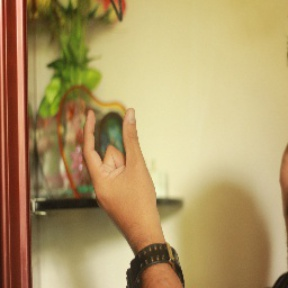U: (77, 96, 154, 226)
